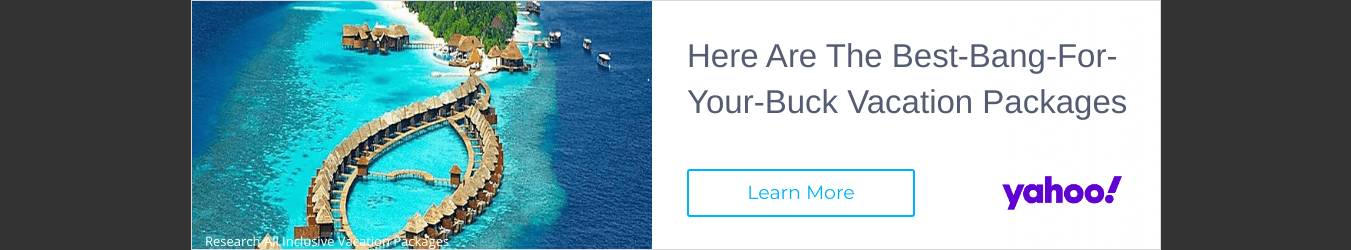fake_button: (677, 157, 931, 230)
